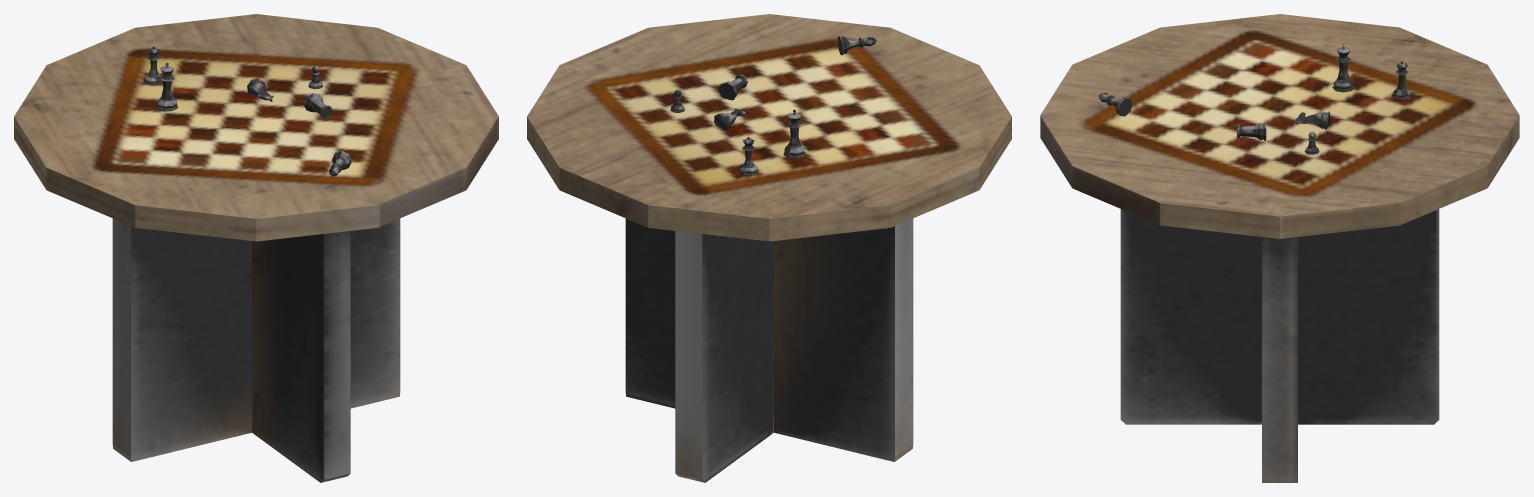
Rendered from ChessTable.fbx.
3 views of the same model, side by side, from view 1: azimuth 30°, elevation 25°; view 2: azimuth 150°, elevation 25°; view 3: azimuth 270°, elevation 25° (orthographic).
Visible parts, largest first — view 1: ChessTable, ChessPieces; view 2: ChessTable, ChessPieces; view 3: ChessTable, ChessPieces.
Boxes of the visible parts, x1,y1,x2,y2 form: ChessTable: [14, 14, 498, 482]; ChessPieces: [144, 46, 351, 176]; ChessTable: [527, 14, 1011, 482]; ChessPieces: [670, 36, 876, 175]; ChessTable: [1040, 14, 1519, 482]; ChessPieces: [1098, 44, 1411, 154].
Size of the model in its own units: 2.29 by 1.82 by 2.29.
